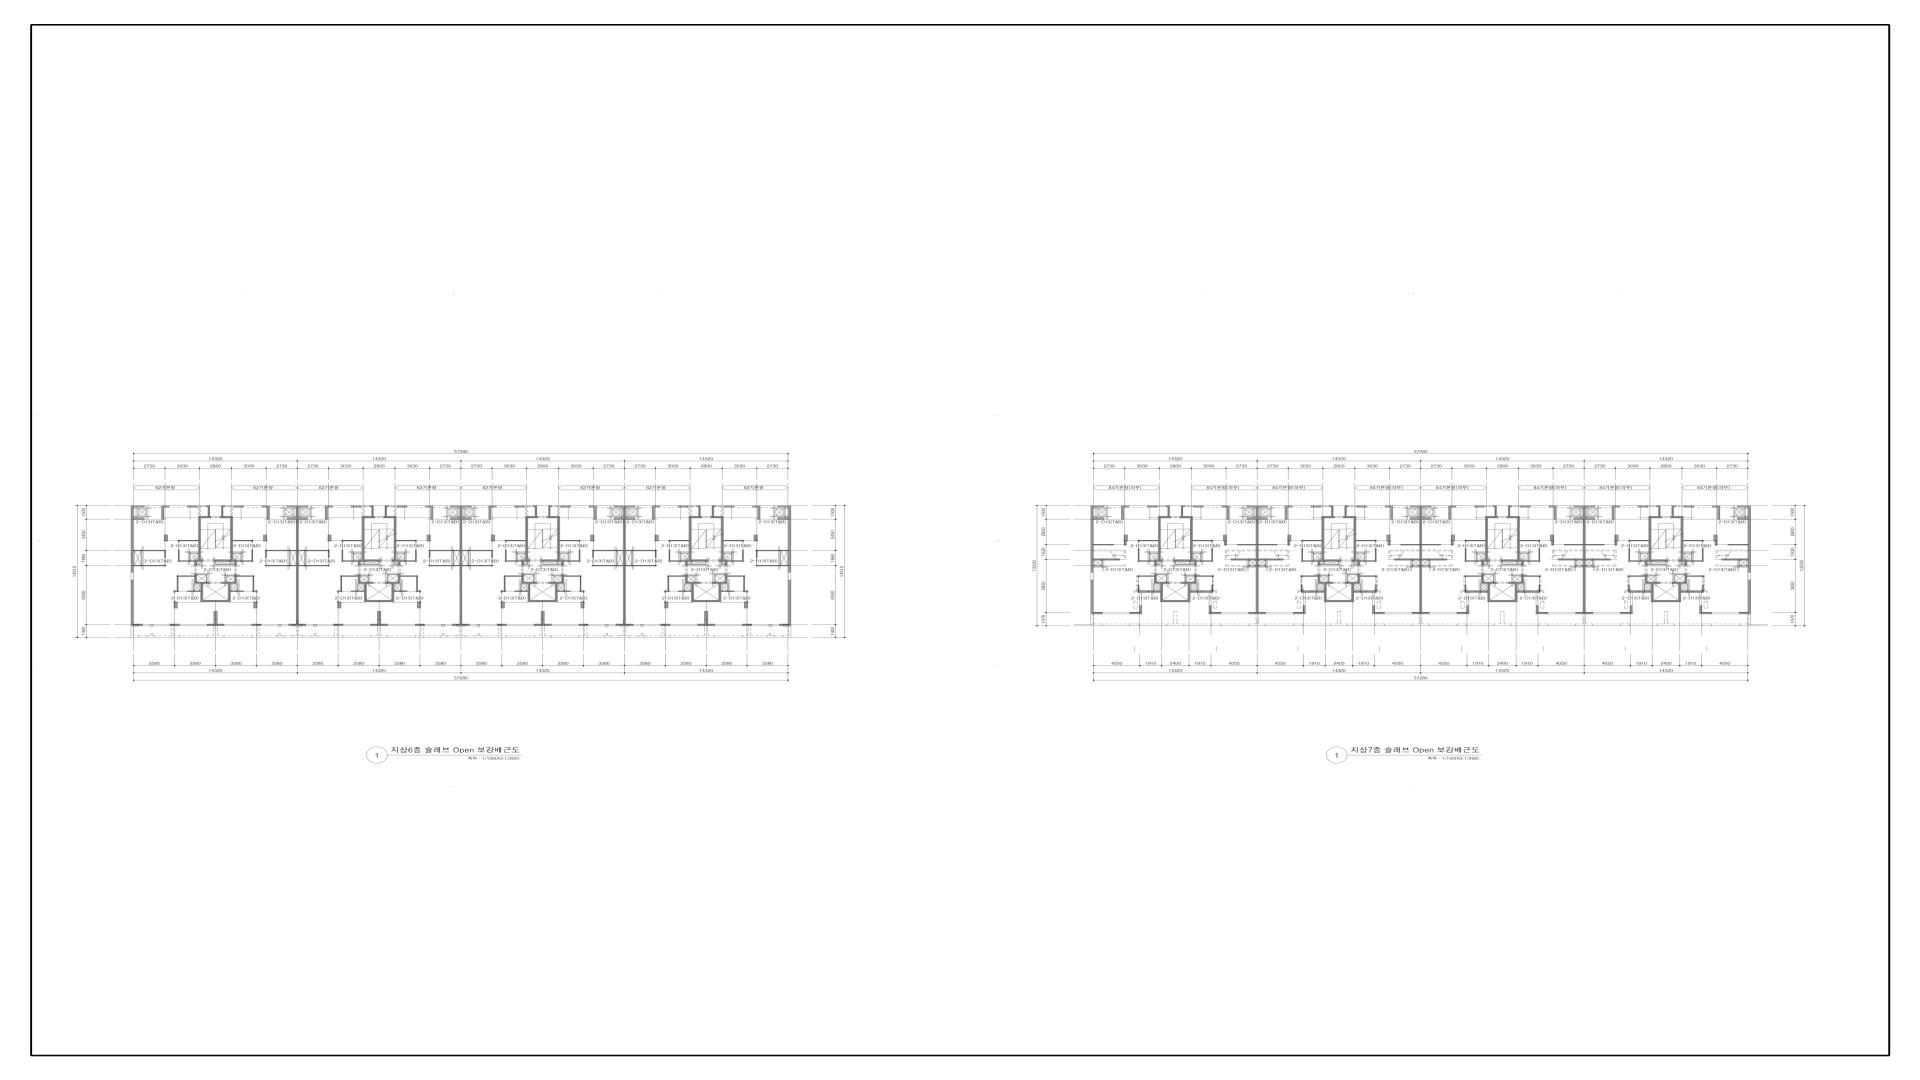wall: (296, 507, 299, 624), (623, 507, 626, 624), (1583, 507, 1586, 612), (1256, 507, 1259, 612), (460, 507, 462, 624), (1420, 507, 1422, 612), (198, 516, 201, 562), (557, 516, 560, 562), (1158, 516, 1161, 562), (1517, 516, 1520, 562), (131, 505, 133, 572), (1091, 505, 1093, 572), (230, 516, 233, 560), (689, 516, 692, 560), (721, 516, 724, 560), (1190, 516, 1193, 560), (1681, 516, 1684, 560), (525, 516, 528, 559), (1485, 516, 1488, 559), (1748, 507, 1751, 550), (1748, 580, 1751, 614), (131, 580, 133, 626), (789, 580, 791, 626), (394, 516, 396, 560), (1354, 516, 1356, 560), (1649, 516, 1651, 560), (362, 516, 364, 559), (789, 507, 791, 550), (1322, 516, 1324, 559), (358, 559, 381, 562), (1318, 559, 1341, 562), (1091, 580, 1093, 614), (1748, 551, 1751, 573), (691, 600, 721, 602), (1651, 600, 1681, 602), (200, 584, 203, 602), (228, 584, 231, 602), (364, 584, 367, 602), (555, 584, 558, 602), (1160, 584, 1163, 602), (1324, 584, 1327, 602), (1351, 584, 1354, 602), (377, 611, 381, 624), (541, 611, 545, 624), (704, 611, 708, 624), (203, 600, 228, 602), (367, 600, 392, 602), (530, 600, 555, 602), (1163, 600, 1188, 602), (1490, 600, 1515, 602), (691, 584, 694, 600), (1327, 600, 1351, 602), (1651, 584, 1654, 600), (685, 560, 708, 562), (1190, 591, 1213, 593), (1301, 591, 1324, 593), (1354, 591, 1377, 593), (1465, 591, 1488, 593), (1517, 591, 1540, 593), (1645, 560, 1668, 562), (1628, 591, 1651, 593), (1681, 591, 1704, 593), (789, 551, 791, 573), (1138, 591, 1160, 593), (396, 540, 417, 542), (594, 506, 597, 520), (614, 505, 635, 507), (1301, 540, 1322, 542), (1356, 540, 1377, 542), (1554, 506, 1557, 520), (1574, 505, 1595, 507), (1683, 540, 1704, 542), (178, 540, 198, 542), (214, 560, 234, 562), (233, 540, 253, 542), (342, 540, 362, 542), (505, 540, 525, 542), (560, 540, 580, 542), (669, 540, 689, 542), (724, 540, 744, 542), (1138, 540, 1158, 542), (1174, 560, 1194, 562), (1193, 540, 1213, 542), (1465, 540, 1485, 542), (1520, 540, 1540, 542), (1629, 540, 1649, 542), (161, 507, 164, 520), (214, 611, 217, 624), (267, 507, 270, 520), (325, 507, 328, 520), (652, 507, 655, 520), (1121, 507, 1124, 520), (1612, 507, 1615, 520), (133, 517, 145, 520), (392, 584, 394, 602), (370, 624, 388, 626), (528, 584, 530, 602), (534, 624, 552, 626), (452, 624, 470, 626), (1188, 584, 1190, 602), (1488, 584, 1490, 602), (1515, 584, 1517, 602), (237, 575, 254, 577), (207, 624, 224, 626), (504, 575, 521, 577), (541, 560, 558, 562), (698, 624, 715, 626), (289, 624, 306, 626), (616, 624, 633, 626), (1249, 612, 1266, 614), (1412, 612, 1429, 614), (1576, 612, 1593, 614), (133, 565, 166, 566), (133, 550, 166, 551), (756, 565, 789, 566), (758, 550, 791, 551), (778, 517, 789, 520), (1093, 517, 1104, 520), (1737, 517, 1748, 520), (1658, 505, 1661, 516), (178, 560, 194, 562), (237, 560, 253, 562), (564, 575, 580, 577), (719, 584, 721, 600), (712, 582, 728, 584), (1138, 560, 1154, 562), (1181, 582, 1197, 584), (1197, 575, 1213, 577), (1197, 560, 1213, 562), (1501, 560, 1517, 562), (1687, 575, 1703, 577), (1679, 584, 1681, 600), (265, 565, 296, 566), (429, 565, 460, 566), (462, 565, 493, 566), (592, 565, 623, 566), (592, 550, 623, 551), (626, 565, 657, 566), (194, 574, 197, 584), (222, 582, 237, 584), (299, 550, 329, 551), (299, 565, 329, 566), (358, 582, 373, 584), (385, 582, 400, 584), (343, 560, 358, 562), (400, 560, 415, 562), (431, 505, 433, 520), (430, 550, 460, 551), (521, 574, 524, 584), (549, 582, 564, 584), (564, 560, 579, 562), (670, 560, 685, 562), (685, 574, 688, 584), (743, 576, 745, 591), (728, 575, 743, 577), (1154, 574, 1157, 584), (1318, 582, 1333, 584), (1345, 582, 1360, 584), (1303, 560, 1318, 562), (1360, 560, 1375, 562), (1391, 505, 1393, 520), (1466, 560, 1481, 562), (1481, 574, 1484, 584), (1509, 582, 1524, 584), (1524, 560, 1539, 562), (1630, 560, 1645, 562), (1645, 574, 1648, 584), (1672, 582, 1687, 584), (1687, 560, 1702, 562), (267, 550, 296, 551), (462, 550, 491, 551), (626, 550, 655, 551), (174, 601, 178, 608), (337, 601, 341, 608), (416, 577, 418, 591), (417, 601, 421, 608), (507, 560, 521, 562), (501, 601, 505, 608), (744, 601, 748, 608), (728, 560, 742, 562), (1702, 548, 1704, 562), (1737, 505, 1751, 507), (287, 517, 296, 520), (299, 517, 308, 520), (614, 517, 623, 520), (626, 517, 635, 520), (1093, 559, 1120, 560), (1247, 517, 1256, 520), (1259, 517, 1268, 520), (1574, 517, 1583, 520), (1586, 517, 1595, 520), (1139, 605, 1142, 614), (1372, 605, 1375, 614), (1466, 605, 1469, 614), (1630, 605, 1633, 614), (1536, 605, 1539, 614), (489, 507, 491, 520), (524, 582, 537, 584), (758, 507, 760, 520), (778, 505, 791, 507), (1227, 507, 1229, 520), (1285, 507, 1287, 520), (1394, 559, 1420, 560), (1449, 507, 1451, 520), (1484, 582, 1497, 584), (1718, 507, 1720, 520), (1722, 559, 1748, 560), (1231, 559, 1256, 560), (1258, 559, 1283, 560), (1422, 559, 1447, 560), (1558, 559, 1583, 560), (1586, 559, 1611, 560), (164, 535, 168, 541), (197, 582, 209, 584), (234, 574, 237, 582), (263, 535, 267, 541), (415, 550, 417, 562), (427, 535, 431, 541), (491, 535, 495, 541), (505, 550, 507, 562), (590, 535, 594, 541), (655, 535, 659, 541), (688, 582, 700, 584), (725, 574, 728, 582), (742, 550, 744, 562), (754, 535, 758, 541), (1124, 535, 1128, 541), (1157, 582, 1169, 584), (1194, 574, 1197, 582), (1211, 548, 1213, 560), (1223, 535, 1227, 541), (1451, 535, 1455, 541), (1521, 574, 1524, 582), (1550, 535, 1554, 541), (1648, 582, 1660, 584), (1714, 535, 1718, 541), (187, 505, 198, 507), (450, 506, 472, 507), (364, 516, 375, 518), (699, 505, 701, 516), (712, 505, 714, 516), (535, 505, 537, 516), (385, 505, 387, 516), (372, 505, 374, 516), (221, 505, 223, 516), (208, 505, 210, 516), (1651, 516, 1662, 518), (1672, 505, 1674, 516), (1495, 505, 1497, 516), (1345, 505, 1347, 516), (1331, 505, 1333, 516), (1181, 505, 1183, 516), (1168, 505, 1170, 516), (254, 601, 257, 608), (287, 506, 308, 507), (581, 601, 584, 608), (665, 601, 668, 608), (1093, 544, 1114, 545), (1247, 506, 1268, 507), (1410, 506, 1431, 507), (133, 624, 143, 626), (178, 550, 180, 560), (234, 505, 244, 507), (450, 518, 460, 520), (462, 518, 472, 520), (678, 505, 688, 507), (779, 624, 789, 626), (170, 624, 180, 626), (201, 516, 211, 518), (220, 516, 230, 518), (333, 624, 343, 626), (384, 516, 394, 518), (415, 624, 425, 626), (497, 624, 507, 626), (742, 624, 752, 626), (528, 516, 538, 518), (547, 516, 557, 518), (692, 516, 702, 518), (711, 516, 721, 518), (548, 506, 550, 516), (1147, 505, 1157, 507), (1194, 505, 1204, 507), (1410, 518, 1420, 520), (1638, 505, 1648, 507), (1684, 505, 1694, 507), (1130, 612, 1140, 614), (1161, 516, 1171, 518), (1180, 516, 1190, 518), (1211, 612, 1221, 614), (1293, 612, 1303, 614), (1324, 516, 1334, 518), (1344, 516, 1354, 518), (1375, 612, 1385, 614), (1488, 516, 1498, 518), (1507, 516, 1517, 518), (1671, 516, 1681, 518), (1508, 506, 1510, 516), (1620, 612, 1630, 614), (1702, 612, 1712, 614), (1728, 544, 1748, 545), (1422, 544, 1441, 545), (1237, 544, 1256, 545), (1258, 544, 1277, 545), (1401, 544, 1420, 545), (1564, 544, 1583, 545), (1586, 544, 1605, 545), (328, 535, 331, 541), (400, 576, 418, 577), (521, 560, 530, 562), (719, 560, 728, 562), (725, 505, 734, 507), (252, 624, 261, 626), (579, 624, 588, 626), (661, 624, 670, 626), (1093, 612, 1102, 614), (1288, 535, 1291, 541), (1387, 535, 1390, 541), (1422, 518, 1431, 520), (1615, 535, 1618, 541), (1627, 576, 1645, 577), (1739, 612, 1748, 614), (1457, 612, 1466, 614), (1209, 605, 1211, 614), (1303, 605, 1305, 614), (1539, 612, 1548, 614), (1700, 605, 1702, 614), (177, 576, 194, 577), (341, 576, 358, 577), (668, 576, 685, 577), (1301, 576, 1318, 577), (1360, 576, 1377, 577), (262, 505, 270, 507), (265, 550, 267, 558), (325, 505, 333, 507), (358, 574, 360, 582), (398, 574, 400, 582), (392, 560, 400, 562), (491, 550, 493, 558), (562, 574, 564, 582), (580, 575, 581, 591), (655, 550, 657, 558), (652, 505, 660, 507), (756, 550, 758, 558), (1138, 576, 1154, 577), (1285, 505, 1293, 507), (1318, 574, 1320, 582), (1358, 574, 1360, 582), (1352, 560, 1360, 562), (1481, 560, 1489, 562), (1465, 576, 1481, 577), (1524, 576, 1540, 577), (1612, 505, 1620, 507), (1685, 574, 1687, 582), (1679, 560, 1687, 562), (1712, 505, 1720, 507), (234, 560, 237, 565), (1194, 560, 1197, 565), (164, 551, 166, 558), (177, 577, 178, 591), (187, 591, 201, 592), (253, 577, 254, 591), (341, 577, 342, 591), (504, 577, 505, 591), (592, 551, 594, 558), (668, 577, 669, 591), (753, 505, 760, 507), (1222, 505, 1229, 507), (1302, 548, 1303, 562), (1465, 548, 1466, 562), (1539, 548, 1540, 562), (1629, 548, 1630, 562), (1375, 548, 1376, 562), (231, 591, 244, 592), (351, 591, 364, 592), (394, 591, 407, 592), (515, 591, 528, 592), (558, 591, 571, 592), (678, 591, 691, 592), (721, 591, 734, 592), (133, 506, 145, 507), (337, 591, 343, 593), (342, 550, 343, 562), (579, 550, 580, 562), (669, 550, 670, 562), (1138, 548, 1139, 560), (1301, 585, 1303, 591), (1385, 505, 1391, 507), (1124, 541, 1127, 545), (1224, 541, 1227, 545), (1451, 541, 1454, 545), (1551, 541, 1554, 545), (1628, 585, 1630, 591), (1702, 585, 1704, 591), (1715, 541, 1718, 545), (1375, 585, 1377, 591), (1093, 506, 1104, 507), (174, 591, 179, 593), (252, 591, 257, 593), (252, 550, 253, 560), (416, 591, 421, 593), (351, 506, 361, 507), (397, 506, 407, 507), (426, 505, 431, 507), (515, 506, 525, 507), (501, 591, 506, 593), (579, 591, 584, 593), (561, 506, 571, 507), (665, 591, 670, 593), (743, 591, 748, 593), (1311, 506, 1321, 507), (1357, 506, 1367, 507), (1474, 506, 1484, 507), (1521, 506, 1531, 507), (194, 562, 197, 565), (521, 562, 524, 565), (561, 562, 564, 565), (685, 562, 688, 565), (725, 562, 728, 565), (1154, 562, 1157, 565), (1481, 562, 1484, 565), (1521, 562, 1524, 565), (161, 506, 169, 507), (194, 560, 198, 562), (429, 550, 430, 558), (560, 560, 564, 562), (1121, 506, 1129, 507), (1154, 560, 1158, 562), (1520, 560, 1524, 562), (1288, 541, 1290, 545), (1388, 541, 1390, 545), (1615, 541, 1617, 545), (328, 551, 329, 558), (489, 506, 496, 507), (1449, 506, 1456, 507), (358, 562, 360, 565), (398, 562, 400, 565), (1318, 562, 1320, 565), (1358, 562, 1360, 565), (1465, 585, 1466, 591), (1539, 585, 1540, 591), (1645, 562, 1647, 565), (1685, 562, 1687, 565), (1138, 585, 1139, 591), (1212, 585, 1213, 591), (589, 506, 594, 507), (1549, 506, 1554, 507), (201, 560, 203, 562), (697, 505, 699, 507), (714, 505, 716, 507), (533, 505, 535, 507), (387, 505, 389, 507), (370, 505, 372, 507), (223, 505, 225, 507), (206, 505, 208, 507), (1160, 560, 1162, 562), (1657, 505, 1659, 507), (1674, 505, 1676, 507), (1493, 505, 1495, 507), (1347, 505, 1349, 507), (1329, 505, 1331, 507), (1183, 505, 1185, 507), (1166, 505, 1168, 507), (550, 506, 552, 507), (1510, 506, 1512, 507)
